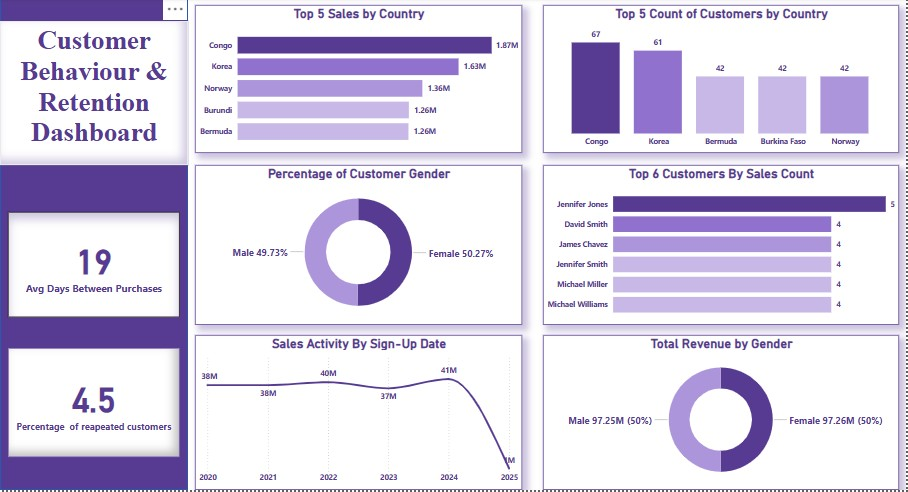

The page's visual inventory and layout, read from the dashboard file:
{"tool":"powerbi","page":{"name":"Customer Behavior & Retention","canvas":[1445,785],"ordinal":1},"visuals":[{"type":"columnChart","title":"Top 5 Count of Customers by Country","fields":{"Y":["Sheet 1.Customer_Name"],"Category":["Sheet 1.Customer_Country"]},"box":[866.4,11.2,568,236.1],"z":0},{"type":"clusteredBarChart","title":"Top 5 Sales by Country","fields":{"Category":["Sheet 1.Customer_Country"],"Y":["Sheet 1.Sale_Amount"]},"box":[311.1,11.2,521.7,236.1],"z":1000},{"type":"lineChart","title":"Sales Activity By Sign-Up Date","fields":{"Category":["Sheet 1.Customer_Signup_date.Variation.Date Hierarchy.Year","Sheet 1.Customer_Signup_date.Variation.Date Hierarchy.Quarter","Sheet 1.Customer_Signup_date.Variation.Date Hierarchy.Month"],"Y":["Sheet 1.Sale_Amount"]},"box":[311.1,537.7,521.7,247.3],"z":2000},{"type":"donutChart","title":"Percentage of Customer Gender","fields":{"Category":["Sheet 1.Gender"],"Y":["Sheet 1.Customer_Name"]},"box":[311.1,266.5,521.7,255.3],"z":3000},{"type":"donutChart","title":"Total Revenue by Gender","fields":{"Category":["Sheet 1.Gender"],"Y":["Sheet 1.Sale_Amount"]},"box":[866.4,537.7,568,247.3],"z":4000},{"type":"barChart","title":"Top 6 Customers By Sales Count","fields":{"Category":["Sheet 1.Customer_Name"],"Y":["Sheet 1.Sale_Amount"]},"box":[866.4,266.5,568,255.3],"z":6000},{"type":"shape","box":[0,0,300,785],"z":8000},{"type":"card","fields":{"Values":["Sheet 1.Amount of reapeated customers"]},"box":[12.8,558.4,274.4,173.9],"z":8500},{"type":"textbox","box":[0,36.7,300,229.8],"z":9000},{"type":"card","fields":{"Values":["Sheet 1.Avg_Time_Between_Purchases"]},"box":[12.8,341.4,274.4,167.5],"z":10000}]}

Visuals, with their boxes in screenshot pixels (x1, y1, x2, y2), scaled from the page's 1445x785 canvas onto the 908x492 screenshot:
"Top 5 Count of Customers by Country" columnChart: <box>544,7,901,155</box>
"Top 5 Sales by Country" clusteredBarChart: <box>195,7,523,155</box>
"Sales Activity By Sign-Up Date" lineChart: <box>195,337,523,491</box>
"Percentage of Customer Gender" donutChart: <box>195,167,523,327</box>
"Total Revenue by Gender" donutChart: <box>544,337,901,491</box>
"Top 6 Customers By Sales Count" barChart: <box>544,167,901,327</box>
shape: <box>0,0,189,491</box>
card - Sheet 1.Amount of reapeated customers: <box>8,350,180,459</box>
textbox: <box>0,23,189,167</box>
card - Sheet 1.Avg_Time_Between_Purchases: <box>8,214,180,319</box>
